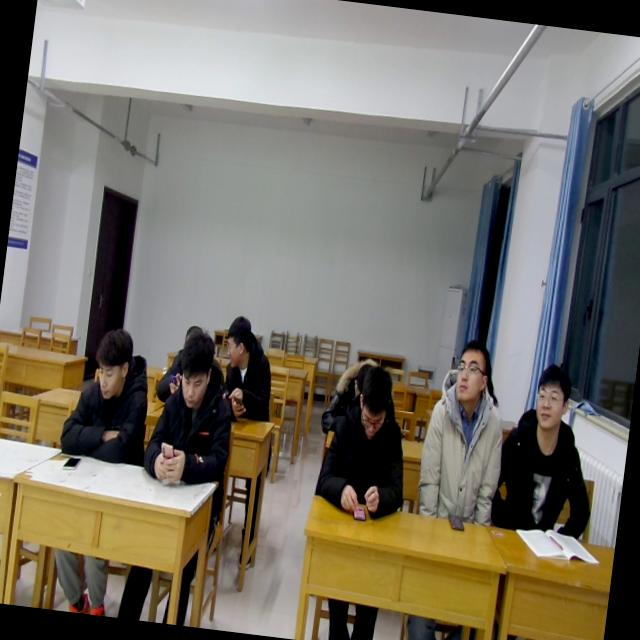bow: (317, 348, 384, 438)
down: (172, 329, 220, 416), (87, 322, 137, 404), (349, 361, 396, 445)
lookup: (446, 332, 494, 414), (527, 360, 575, 432)
sit: (485, 354, 608, 540), (410, 332, 516, 528), (138, 326, 246, 494), (312, 359, 418, 522), (56, 320, 158, 464), (214, 312, 282, 424)
